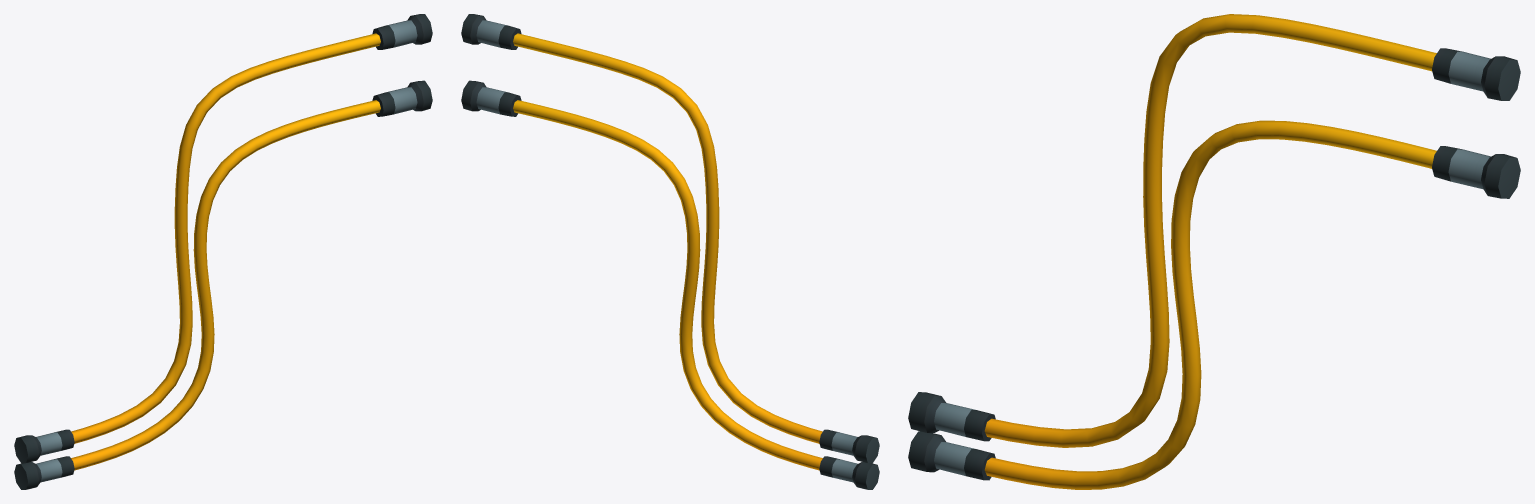
File: Cable_type_C_003.glb
The picture shows the model from 3 angles, left to right: view 1: azimuth 30°, elevation 25°; view 2: azimuth 150°, elevation 25°; view 3: azimuth 330°, elevation 25°; orthographic projection. The views are drawn at different scales.
Parts seen in each view (by area): view 1: Cable_type_C_003; view 2: Cable_type_C_003; view 3: Cable_type_C_003.
Boxes of the visible parts, x1,y1,x2,y2 form: Cable_type_C_003: (14, 14, 432, 489); Cable_type_C_003: (461, 14, 879, 489); Cable_type_C_003: (908, 14, 1520, 489).
Bounding box in the file's own units: 1.31 × 1.17 × 0.0891.
1 material, 1 textured.
